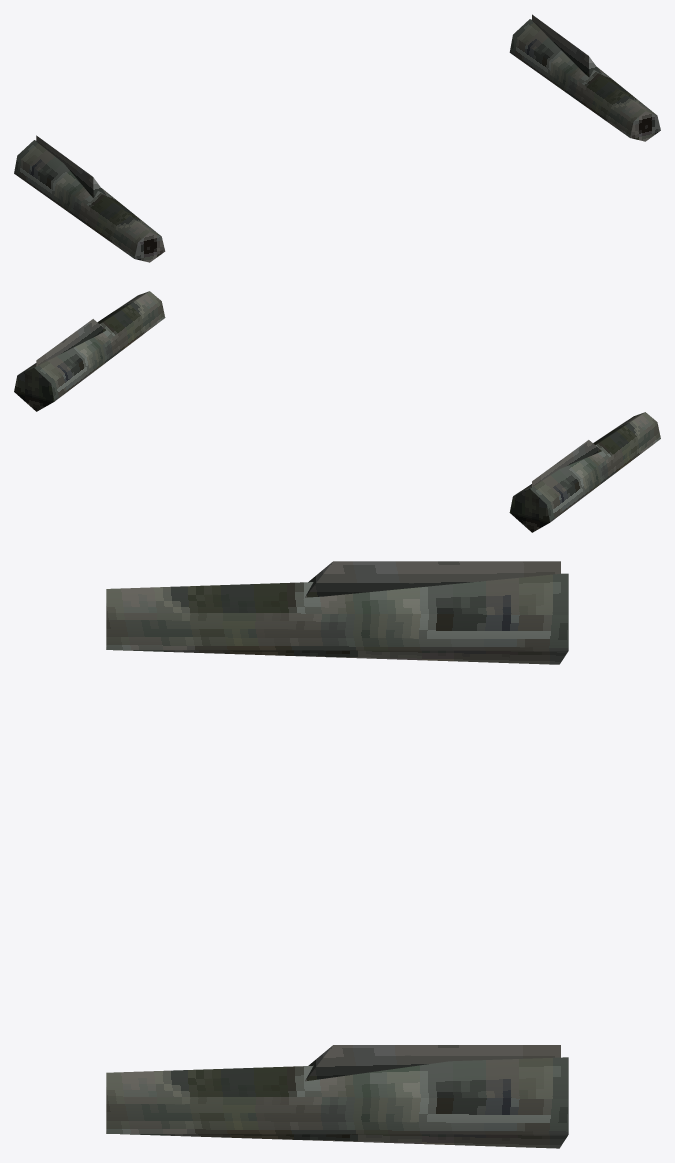
File: black_sun_fighter_medium_weapon1_s01_l3.fbx
3 renders of one model, top to bottom at view 1: azimuth 30°, elevation 25°; view 2: azimuth 150°, elevation 25°; view 3: azimuth 270°, elevation 25°, orthographic. The views are drawn at different scales.
Visible parts, largest first — view 1: mesh_node; view 2: mesh_node; view 3: mesh_node.
Part boxes in pixels (box(x1,y1,x2,y2)): mesh_node: box(14, 14, 660, 262); mesh_node: box(14, 291, 660, 532); mesh_node: box(106, 561, 568, 1148).
Bounding box in the file's own units: 13.08 × 1.21 × 4.88.
Materials: 1 (1 with a texture image).
